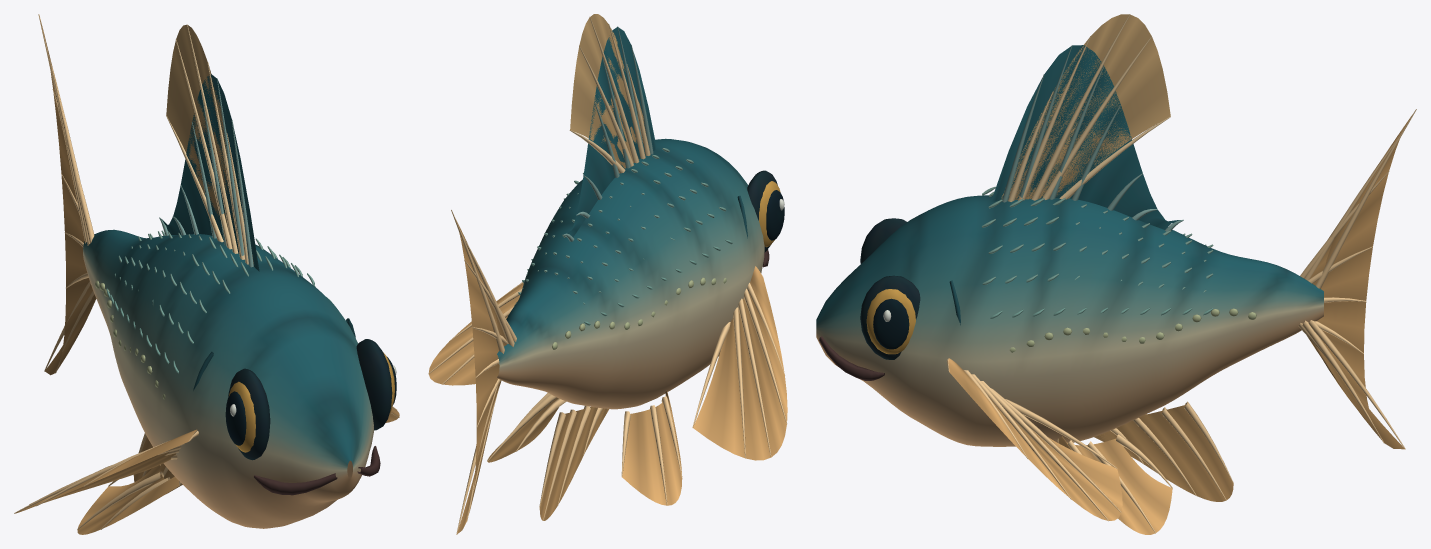
File: minnow.glb
The picture shows the model from 3 angles, left to right: view 1: azimuth 30°, elevation 25°; view 2: azimuth 150°, elevation 25°; view 3: azimuth 270°, elevation 25°; orthographic projection. The views are drawn at different scales.
Parts seen in each view (by area): view 1: body, dorsal, tail, fins, fin_-1; view 2: body, fin_-1, dorsal, fins, tail, fin_1; view 3: body, dorsal, tail, fins, fin_1.
Part boxes in pixels (x1=…): body: x1=83, y1=229, x2=396, y2=528; dorsal: x1=159, y1=24, x2=259, y2=271; tail: x1=38, y1=14, x2=96, y2=375; fins: x1=77, y1=433, x2=182, y2=534; fin_-1: x1=14, y1=429, x2=198, y2=513; body: x1=496, y1=138, x2=784, y2=409; fin_-1: x1=692, y1=266, x2=787, y2=460; dorsal: x1=563, y1=14, x2=656, y2=241; fins: x1=487, y1=390, x2=682, y2=520; tail: x1=451, y1=210, x2=516, y2=534; fin_1: x1=428, y1=282, x2=523, y2=385; body: x1=816, y1=186, x2=1323, y2=446; dorsal: x1=991, y1=14, x2=1183, y2=231; tail: x1=1298, y1=109, x2=1416, y2=449; fins: x1=1057, y1=401, x2=1233, y2=534; fin_1: x1=946, y1=358, x2=1122, y2=521.
Size of the model in its own units: 1.62 by 2.1 by 2.34.
